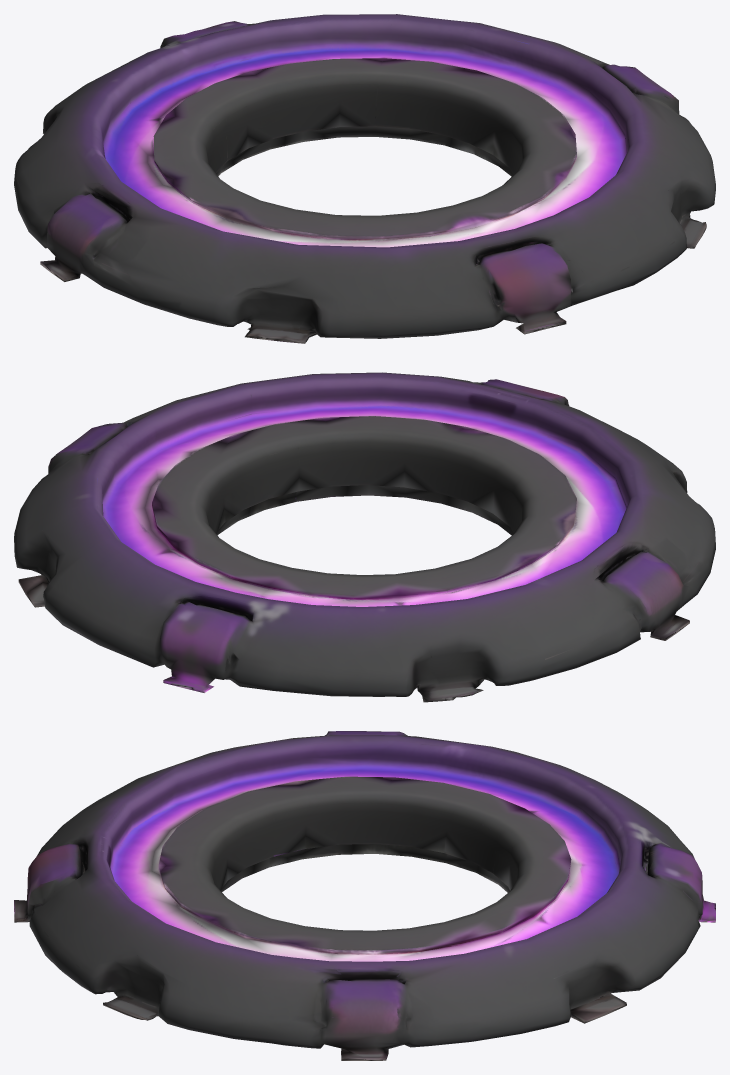
Rendered from Meshy_AI_Violet_Halo_Device_0108120017_texture.fbx.
3 renders of one model, top to bottom at view 1: azimuth 30°, elevation 25°; view 2: azimuth 150°, elevation 25°; view 3: azimuth 270°, elevation 25°, orthographic. The views are drawn at different scales.
Parts seen in each view (by area): view 1: Mesh0; view 2: Mesh0; view 3: Mesh0.
Boxes of the visible parts, box(x1,y1,x2,y2) form: Mesh0: box(14, 14, 715, 343); Mesh0: box(14, 372, 715, 702); Mesh0: box(14, 731, 715, 1060).
Bounding box in the file's own units: 191 × 21.36 × 191.
Materials: 1 (1 with a texture image).
